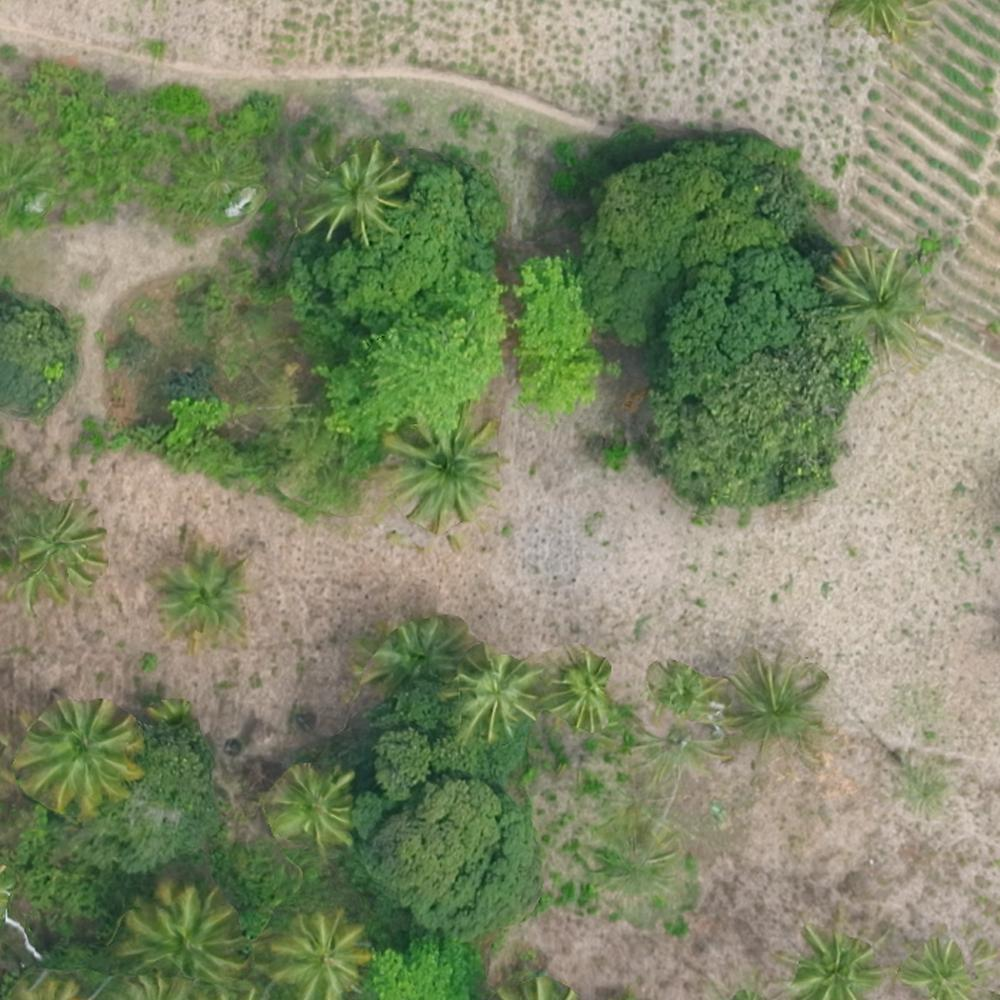Palm: (12, 695, 142, 808), (115, 881, 243, 991), (385, 411, 499, 521), (822, 245, 933, 354), (308, 144, 410, 239), (12, 498, 105, 598), (726, 651, 821, 748), (264, 914, 368, 1000), (782, 923, 888, 997), (264, 766, 358, 845), (161, 552, 248, 635), (453, 648, 534, 735), (542, 645, 619, 726), (897, 935, 978, 998)
